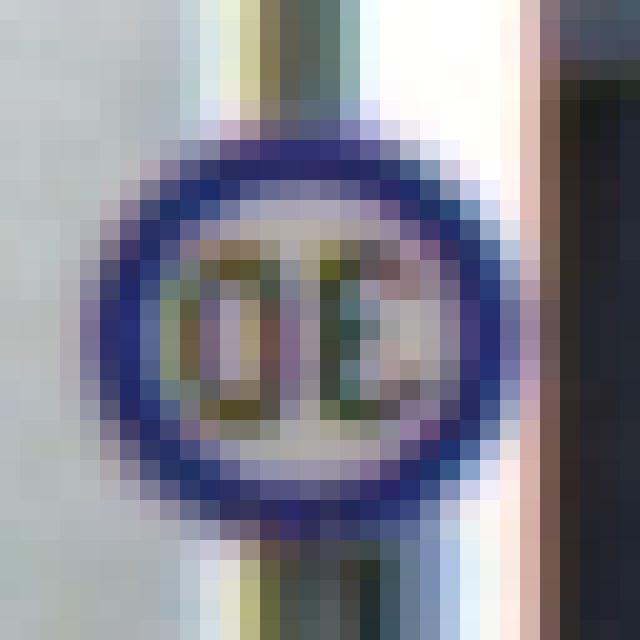SPEED LIMIT 30: (114, 248, 480, 566)
